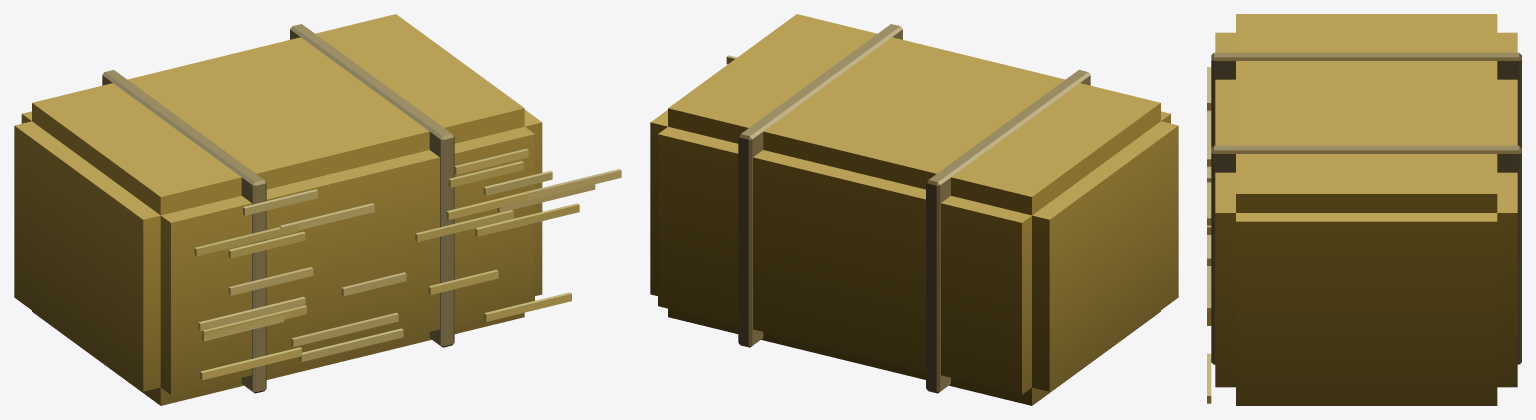
Rendered from hay_bale.glb.
The picture shows the model from 3 angles, left to right: view 1: azimuth 30°, elevation 25°; view 2: azimuth 150°, elevation 25°; view 3: azimuth 270°, elevation 25°; orthographic projection.
Parts seen in each view (by area): view 1: hay_bale; view 2: hay_bale; view 3: hay_bale.
Part boxes in pixels (box(x1,y1,x2,y2)): hay_bale: box(14, 14, 621, 405); hay_bale: box(650, 14, 1178, 405); hay_bale: box(1207, 14, 1521, 405).
Size of the model in its own units: 0.7906 by 0.344 by 0.458.
